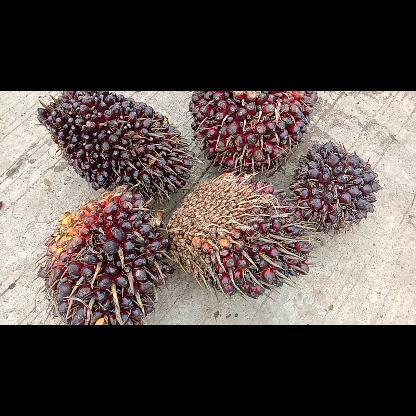TBS mentah: (168, 170, 316, 298), (35, 184, 169, 324), (35, 91, 195, 203), (187, 90, 317, 174), (289, 140, 379, 233)
